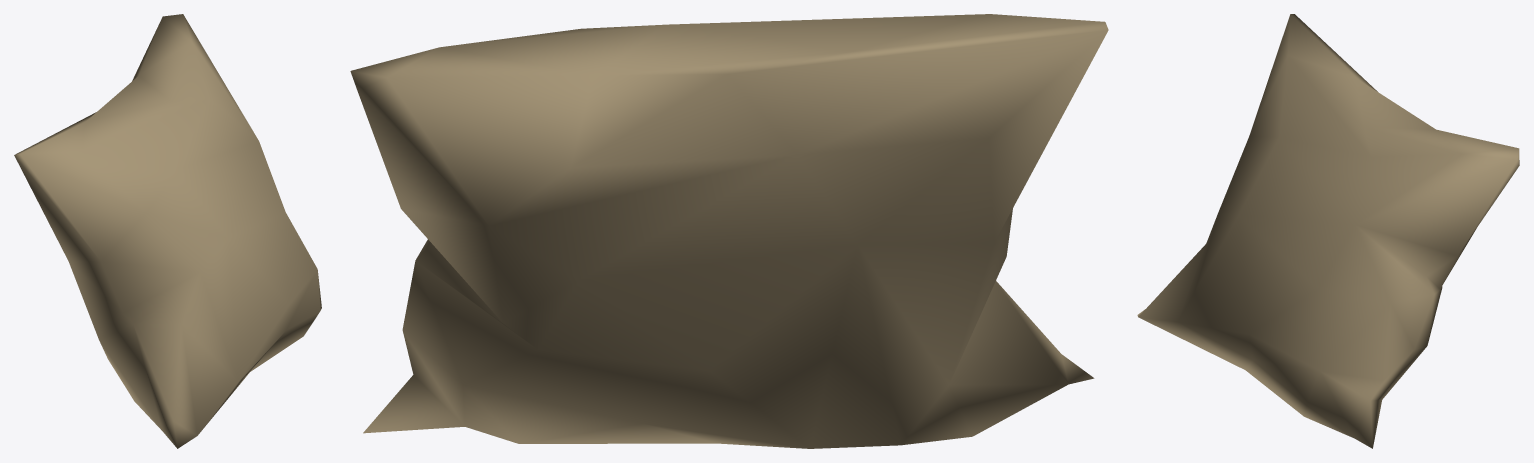
Rendered from cushion.001.fbx.
3 views of the same model, side by side, from view 1: azimuth 30°, elevation 25°; view 2: azimuth 150°, elevation 25°; view 3: azimuth 270°, elevation 25° (orthographic). The views are drawn at different scales.
Visible parts, largest first — view 1: cushion.001; view 2: cushion.001; view 3: cushion.001.
Boxes of the visible parts, <box> form: cushion.001: <box>14,14,321,448</box>; cushion.001: <box>350,14,1108,448</box>; cushion.001: <box>1137,14,1519,448</box>.
Bounding box in the file's own units: 31.61 × 23.2 × 30.1.
